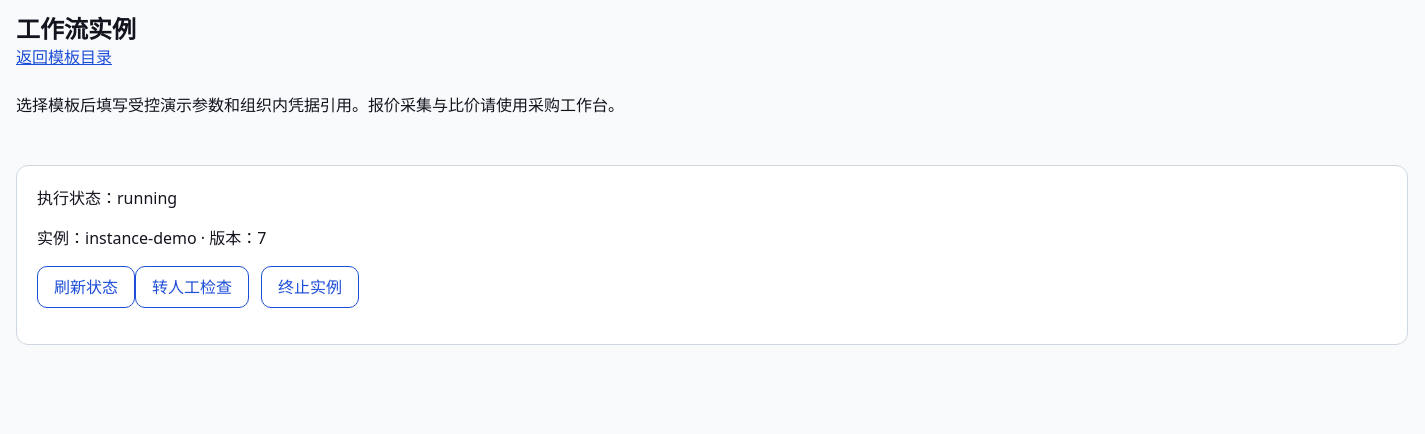
Test case: opens a persisted instance URL and requires refresh after a version conflict
The width and height of the screenshot is (1425, 434).
Expected: the text "实例：instance-demo · 版本：7" is shown, x1=37 y1=227 x2=266 y2=249
Click the button "转人工检查". click: (192, 287)
box: x1=135 y1=266 x2=249 y2=308
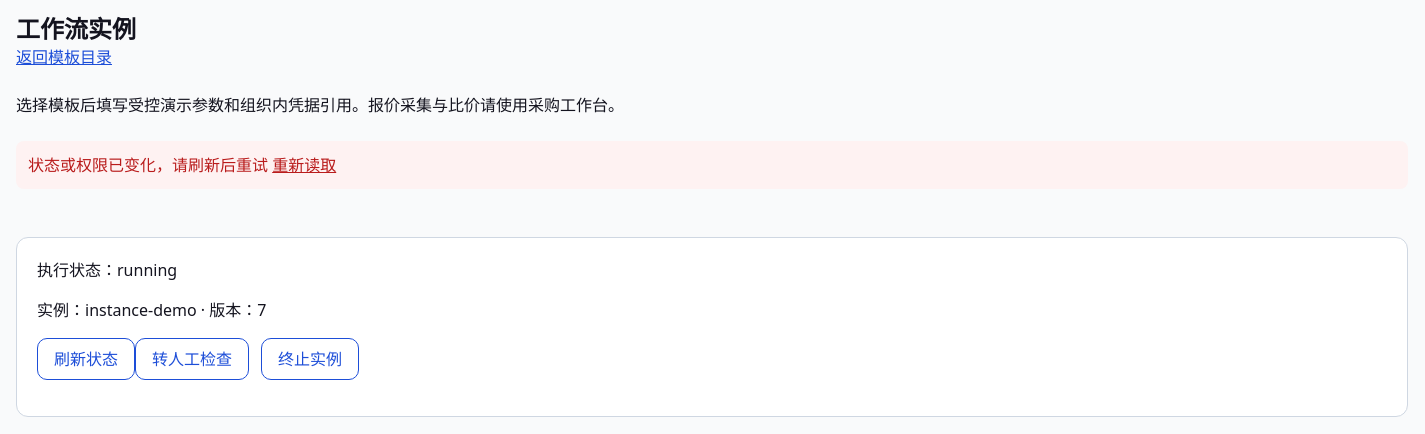
Expected: the message "状态或权限已变化，请刷新后重试 重新读取" is shown, x1=16 y1=141 x2=1408 y2=189
Expected: the button "转人工检查" is disabled, x1=135 y1=338 x2=249 y2=380
Click the button "刷新状态". click: (86, 359)
box: x1=37 y1=338 x2=135 y2=380
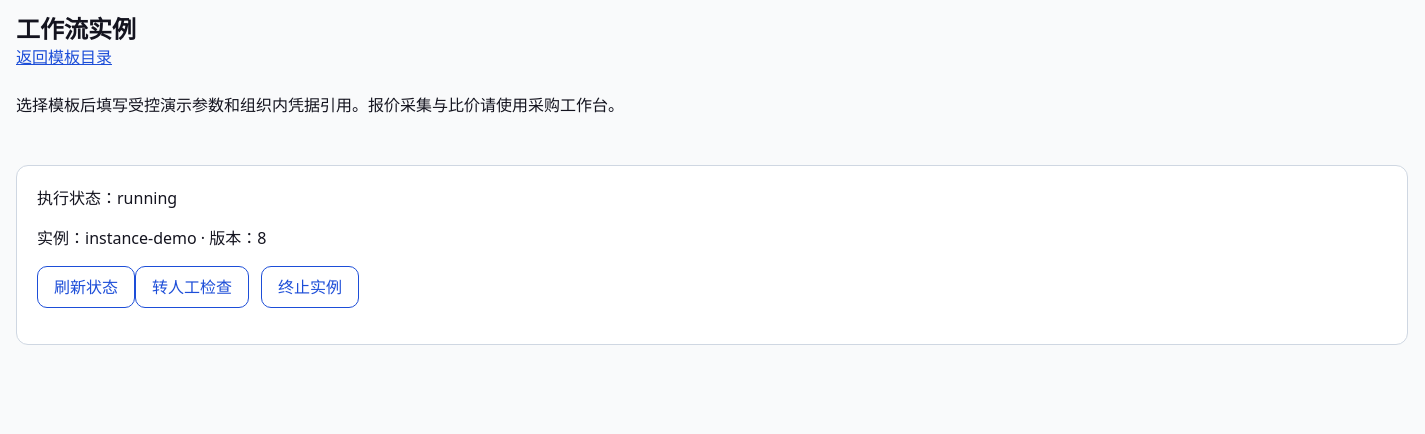
Expected: the text "实例：instance-demo · 版本：8" is shown, x1=37 y1=227 x2=266 y2=249
Expected: the button "转人工检查" is enabled, x1=135 y1=266 x2=249 y2=308
